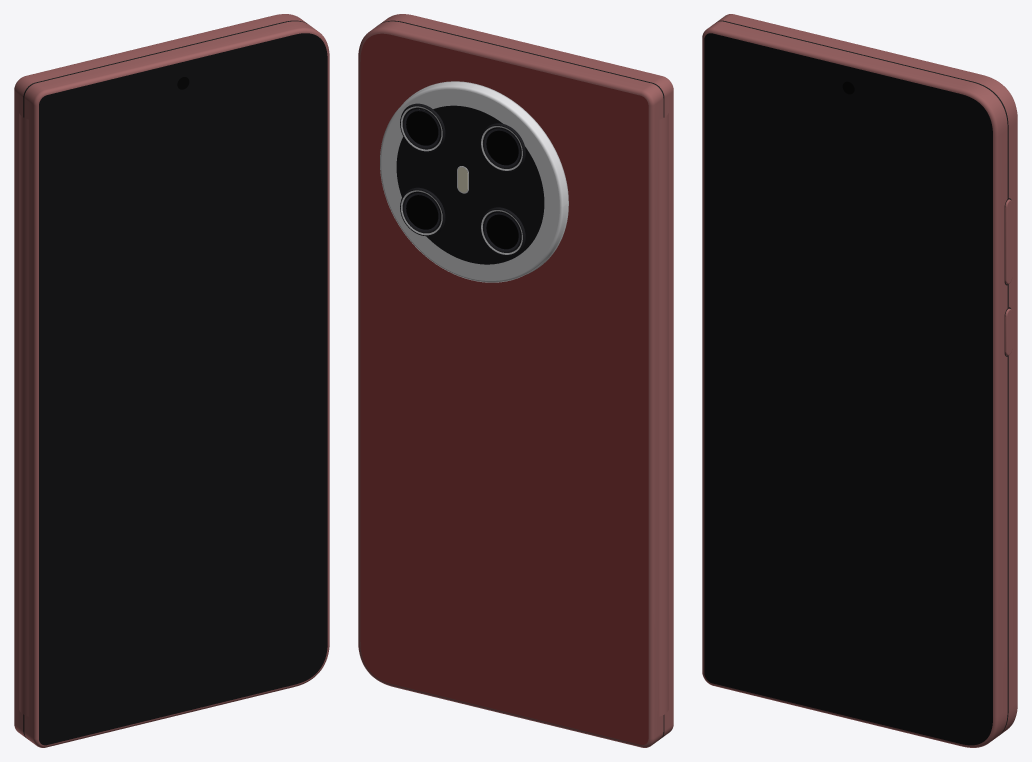
File: huawei-mate-x6.glb
3 renders of one model, left to right at view 1: azimuth 30°, elevation 25°; view 2: azimuth 150°, elevation 25°; view 3: azimuth 330°, elevation 25°, orthographic.
Parts seen in each view (by area): view 1: body, fold; view 2: body, camera, fold; view 3: body, fold, buttons.
Part boxes in pixels (<box>): body: <box>14,14,329,747</box>; fold: <box>19,20,306,738</box>; body: <box>358,14,673,747</box>; camera: <box>380,81,568,282</box>; fold: <box>381,20,668,738</box>; body: <box>702,14,1017,747</box>; fold: <box>717,20,1008,735</box>; buttons: <box>1004,198,1012,356</box>.
Size of the model in its own units: 74.66 by 157 by 12.87.
